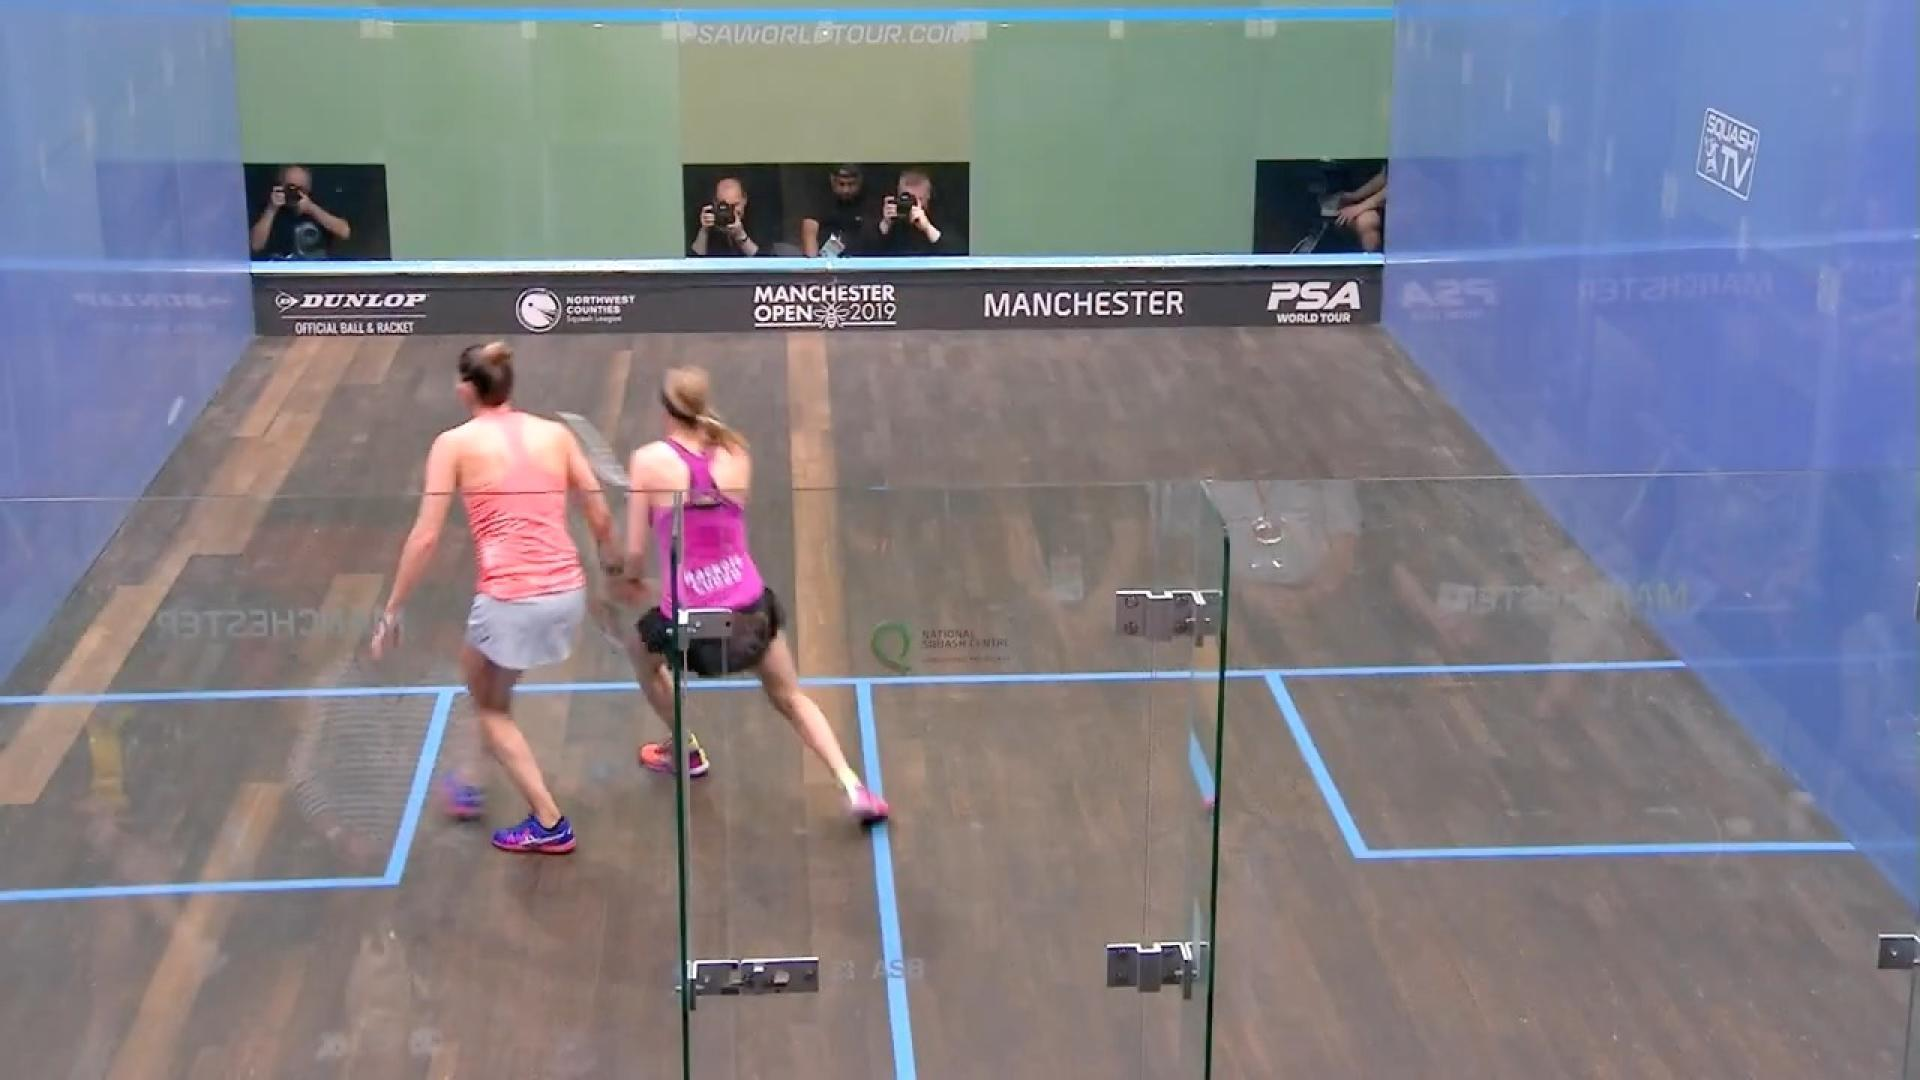Squash-Ball: (145, 386, 218, 444)
